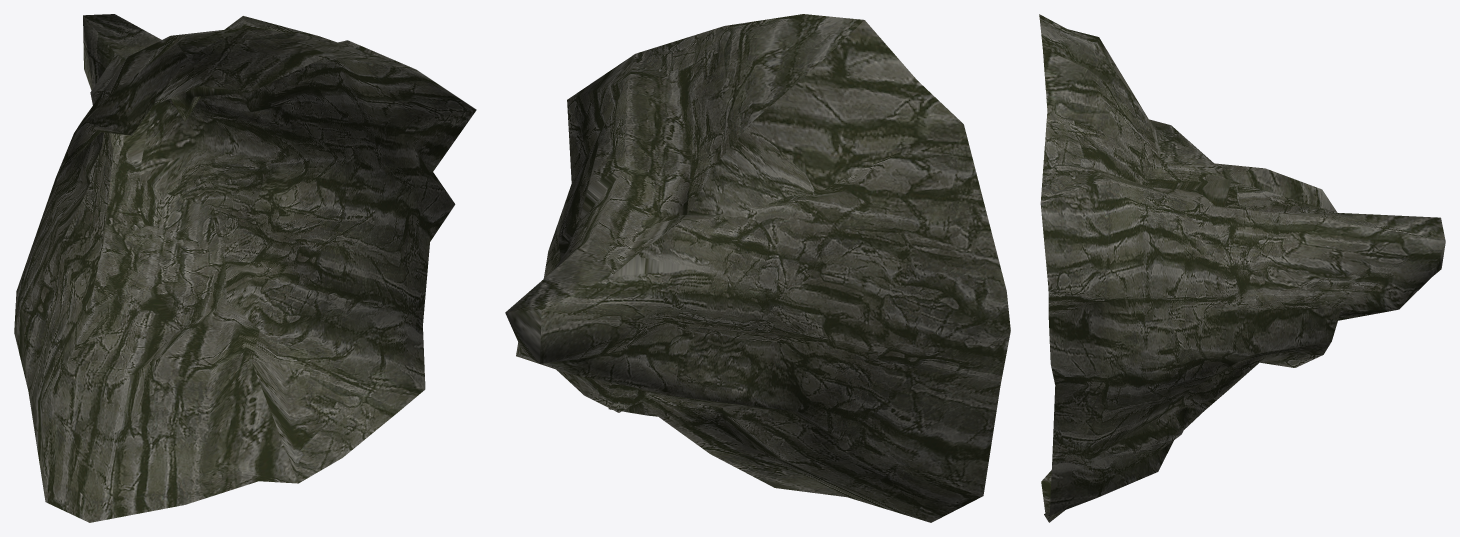
File: d_rock2.FBX
3 renders of one model, left to right at view 1: azimuth 30°, elevation 25°; view 2: azimuth 150°, elevation 25°; view 3: azimuth 270°, elevation 25°, orthographic. The views are drawn at different scales.
Parts seen in each view (by area): view 1: TI_Cliff_02_o_LOD_02; view 2: TI_Cliff_02_o_LOD_02; view 3: TI_Cliff_02_o_LOD_02.
Boxes of the visible parts, x1,y1,x2,y2 form: TI_Cliff_02_o_LOD_02: (14, 14, 476, 522); TI_Cliff_02_o_LOD_02: (505, 14, 1010, 522); TI_Cliff_02_o_LOD_02: (1039, 14, 1445, 522).
Bounding box in the file's own units: 4.45 × 4.47 × 3.68.
